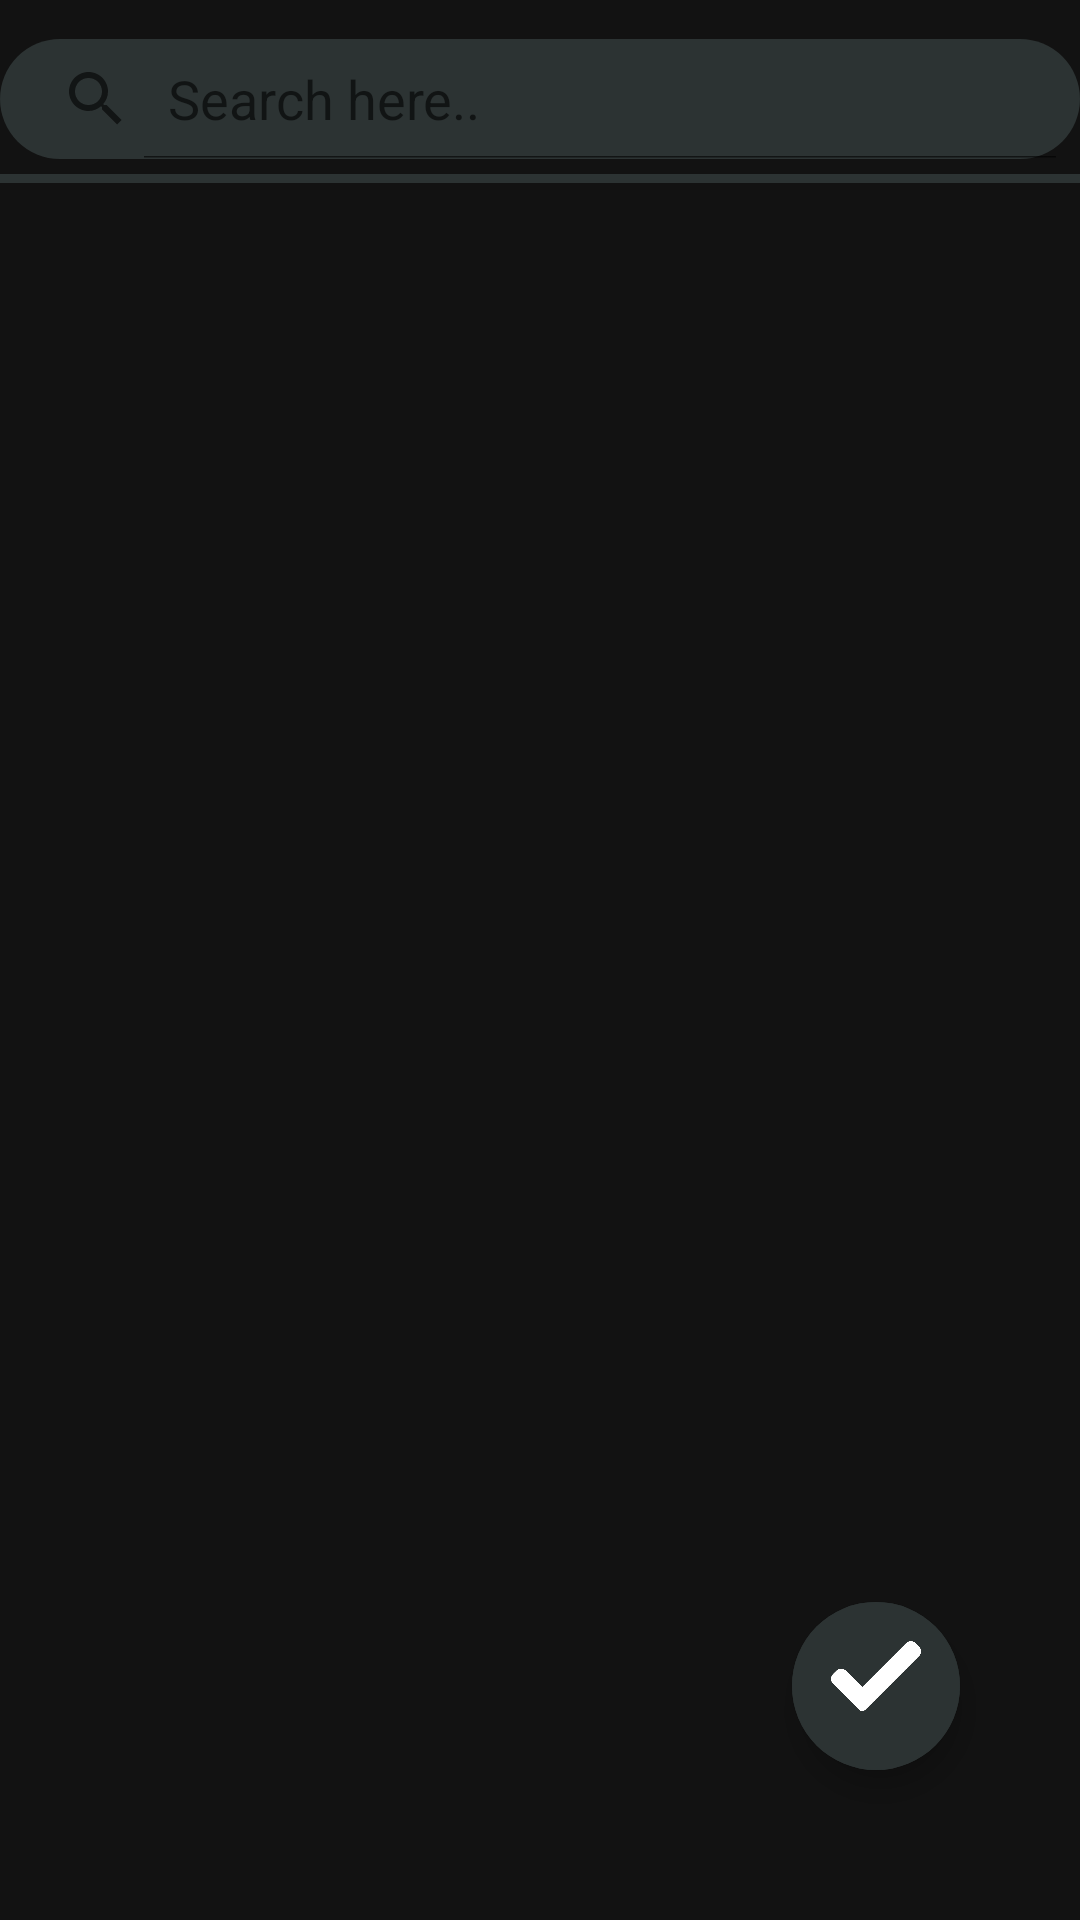

Point at icon controls on the screen. Image size 1080*1920, points as (x,y).
check: (876,1686)
